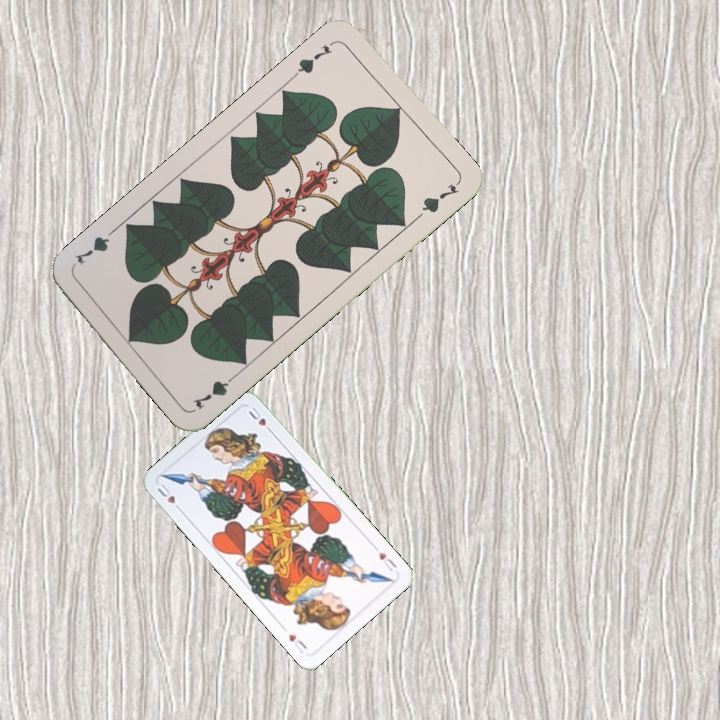G7: (188, 368, 241, 412), (289, 37, 339, 80)
HU: (153, 479, 184, 514), (374, 548, 399, 574)
